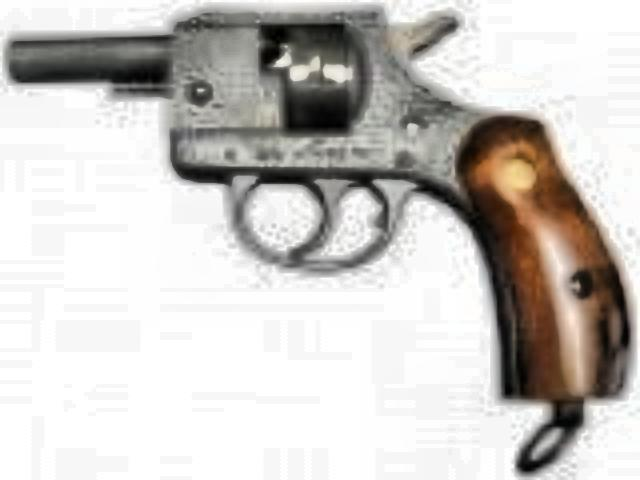pistol: (4, 0, 624, 404)
